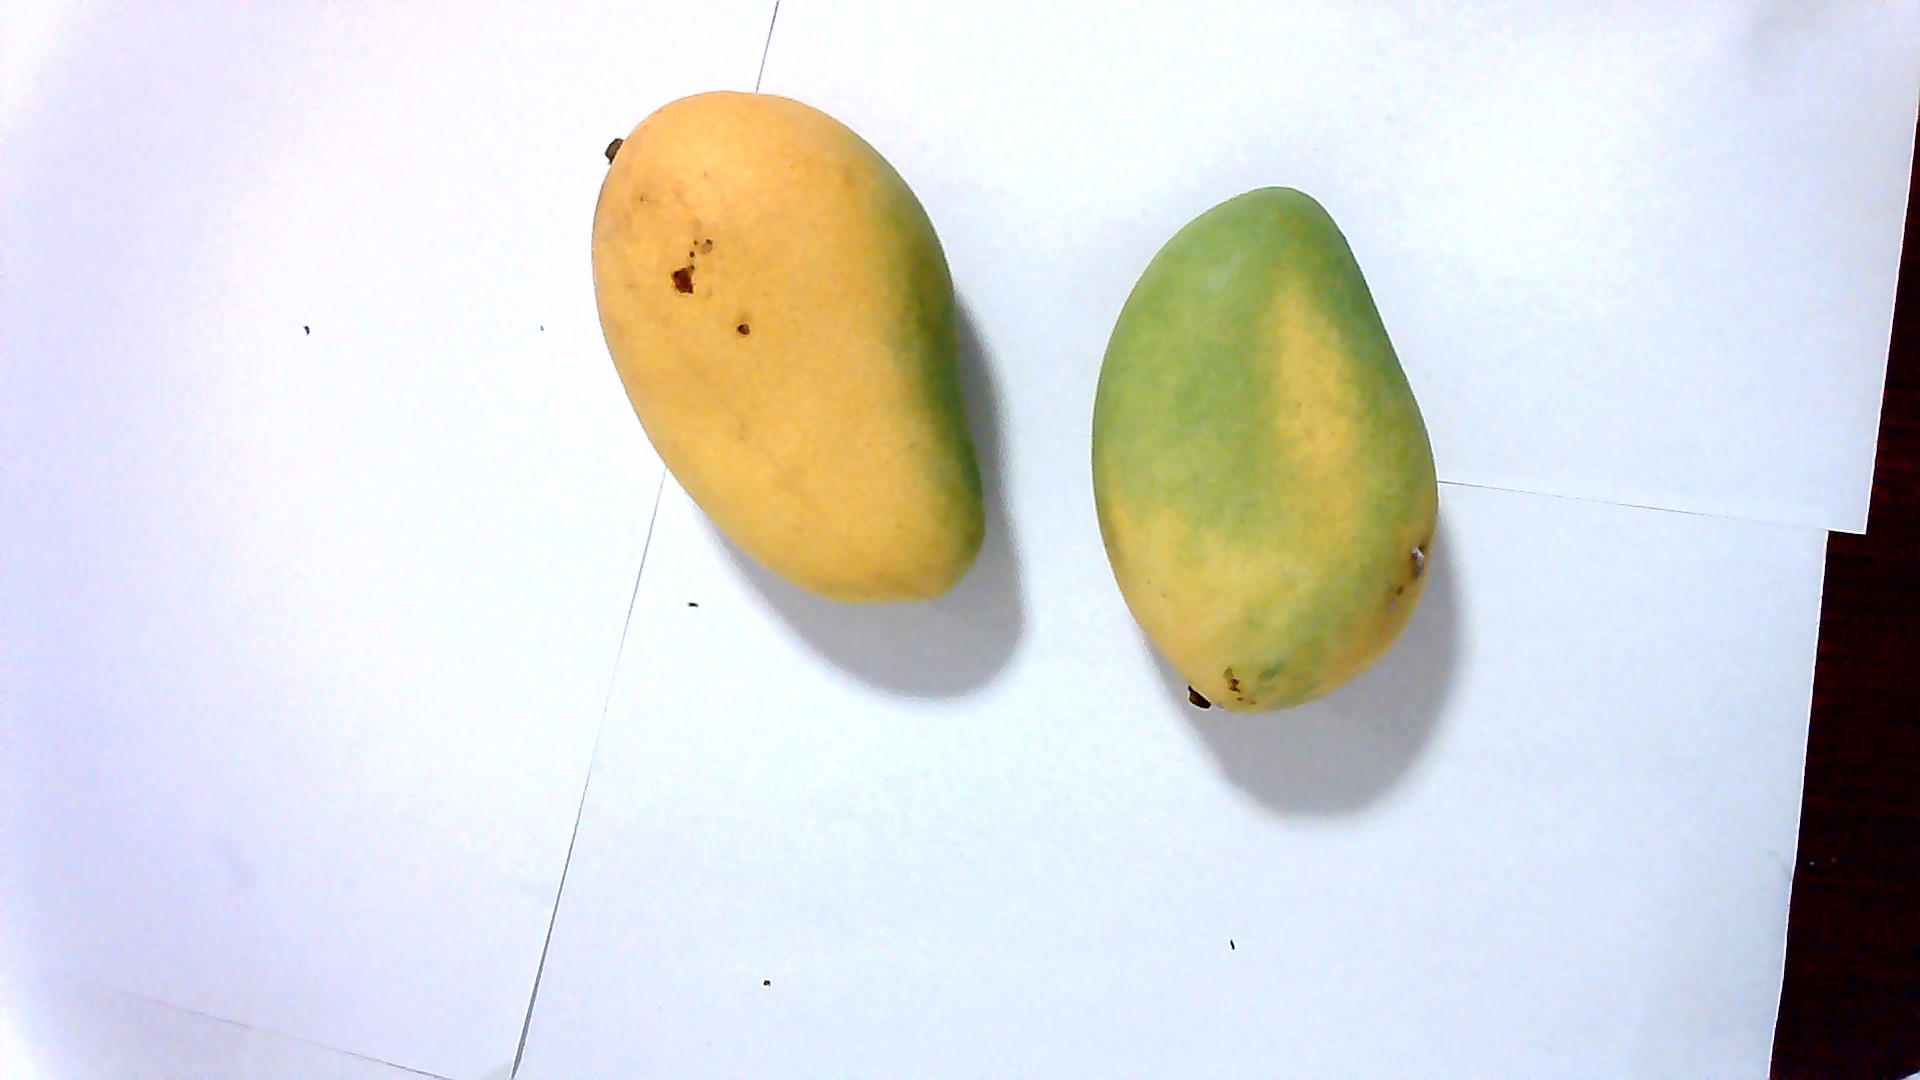mongo: (1083, 200, 1464, 736), (593, 112, 972, 618)
